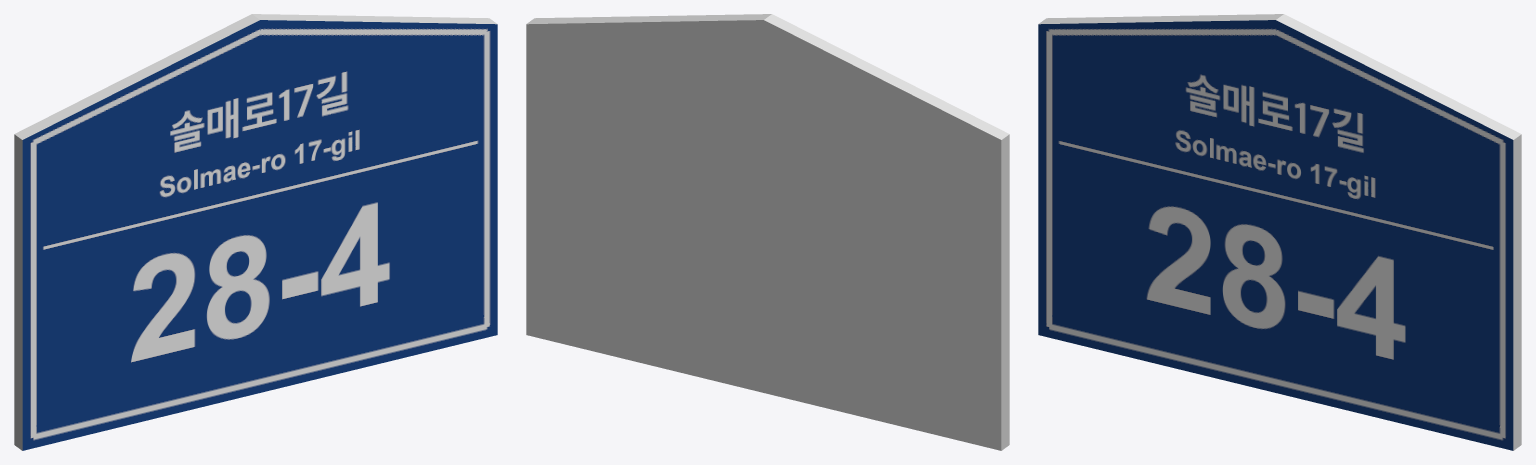
3 renders of one model, left to right at view 1: azimuth 30°, elevation 25°; view 2: azimuth 150°, elevation 25°; view 3: azimuth 330°, elevation 25°, orthographic.
Parts seen in each view (by area): view 1: a28; view 2: a28; view 3: a28.
Part boxes in pixels (x1=…): a28: x1=14, y1=14, x2=497, y2=450; a28: x1=526, y1=14, x2=1009, y2=450; a28: x1=1038, y1=14, x2=1521, y2=450.
Size of the model in its own units: 0.4 by 0.3 by 0.012.
Materials: 2 (1 with a texture image).
